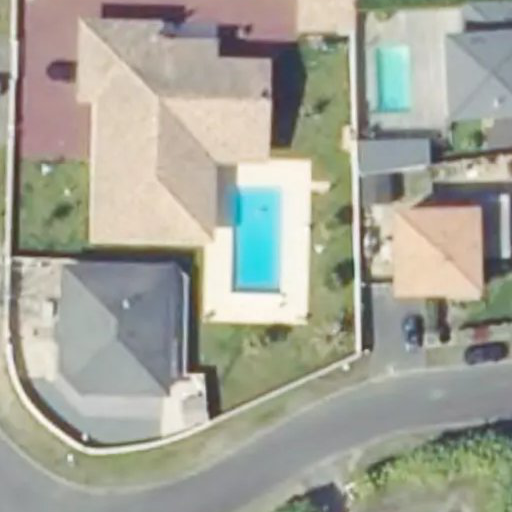pool: (229, 188, 282, 292), (377, 46, 411, 112)
